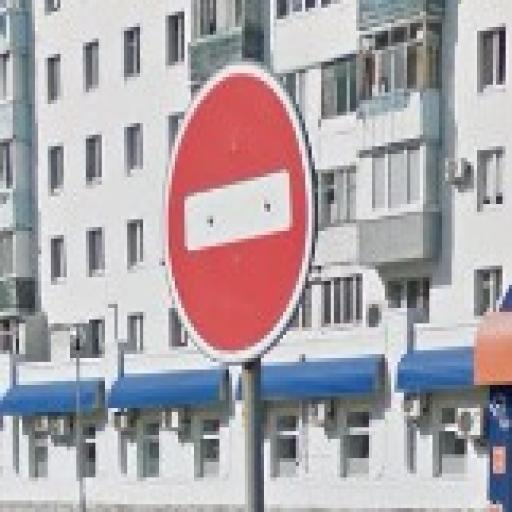traffic_sign: (163, 59, 319, 367)
